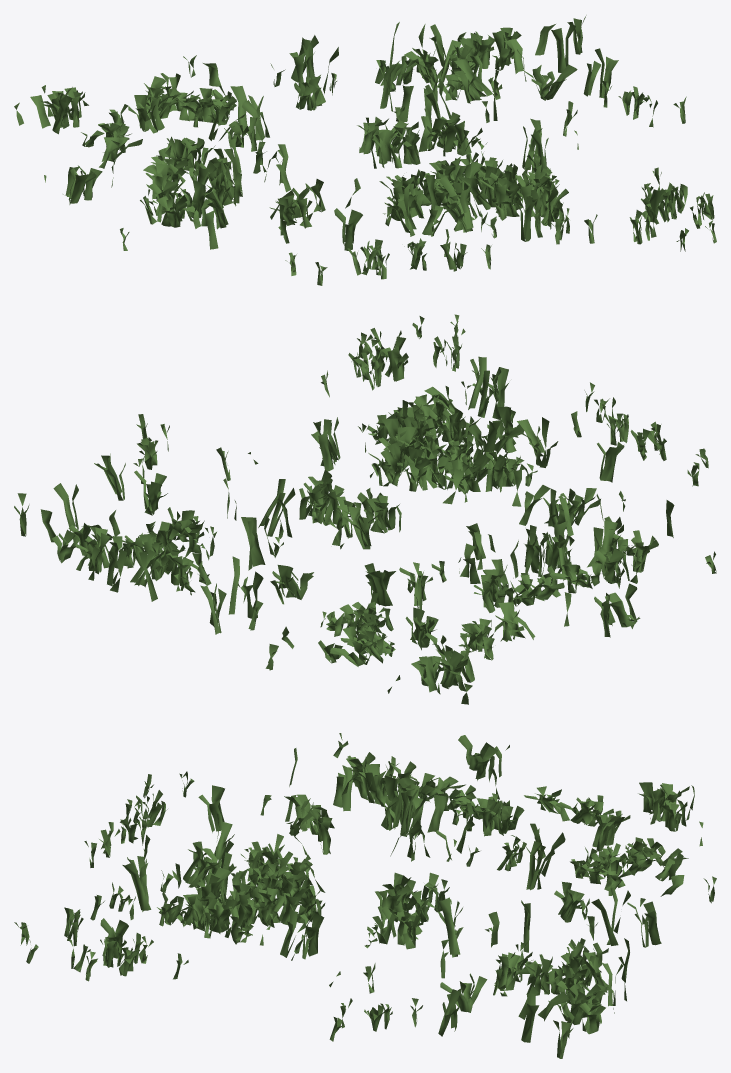
The model's file is grass_3.fbx.
3 views of the same model, one above another, from view 1: azimuth 30°, elevation 25°; view 2: azimuth 150°, elevation 25°; view 3: azimuth 270°, elevation 25° (orthographic). The views are drawn at different scales.
Visible parts, largest first — view 1: Sc Forest moss 01.023; view 2: Sc Forest moss 01.023; view 3: Sc Forest moss 01.023.
Part boxes in pixels (left/top/right/bottom): Sc Forest moss 01.023: left=14, top=15, right=716, bottom=285; Sc Forest moss 01.023: left=14, top=314, right=716, bottom=704; Sc Forest moss 01.023: left=14, top=733, right=716, bottom=1058.
Size of the model in its own units: 31.81 by 4.36 by 33.03.
